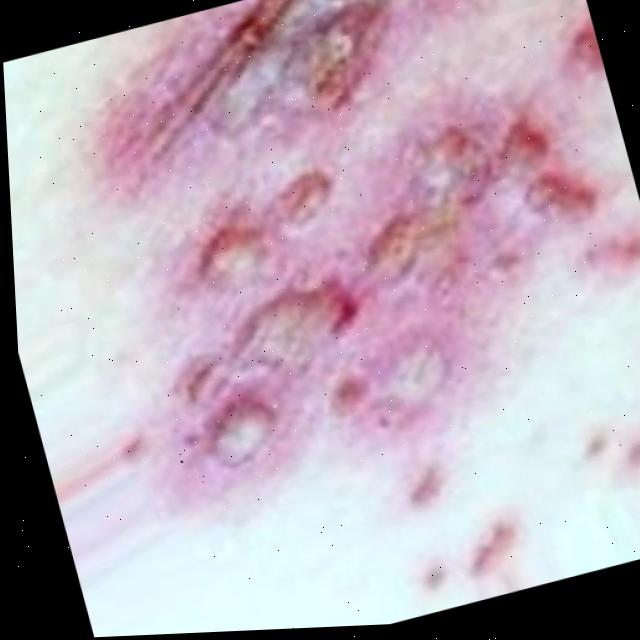Shingles: (49, 0, 640, 518)
